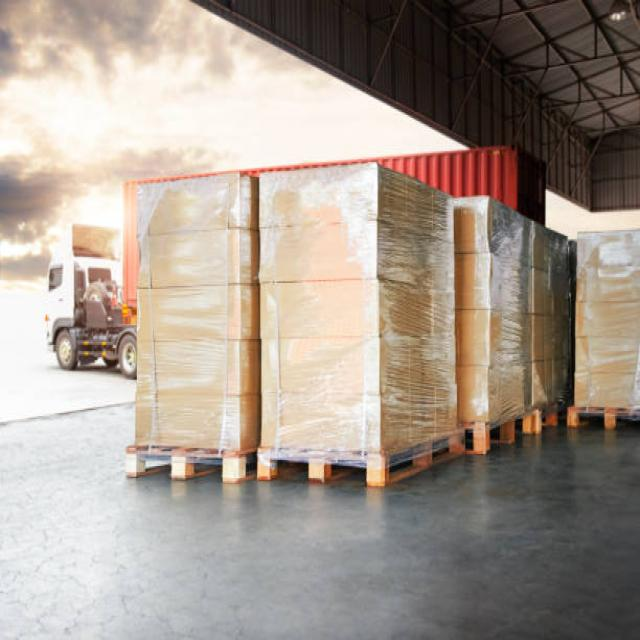Wooden-Pallets: (255, 427, 464, 498), (119, 437, 251, 493), (477, 404, 539, 464), (561, 399, 640, 437)
